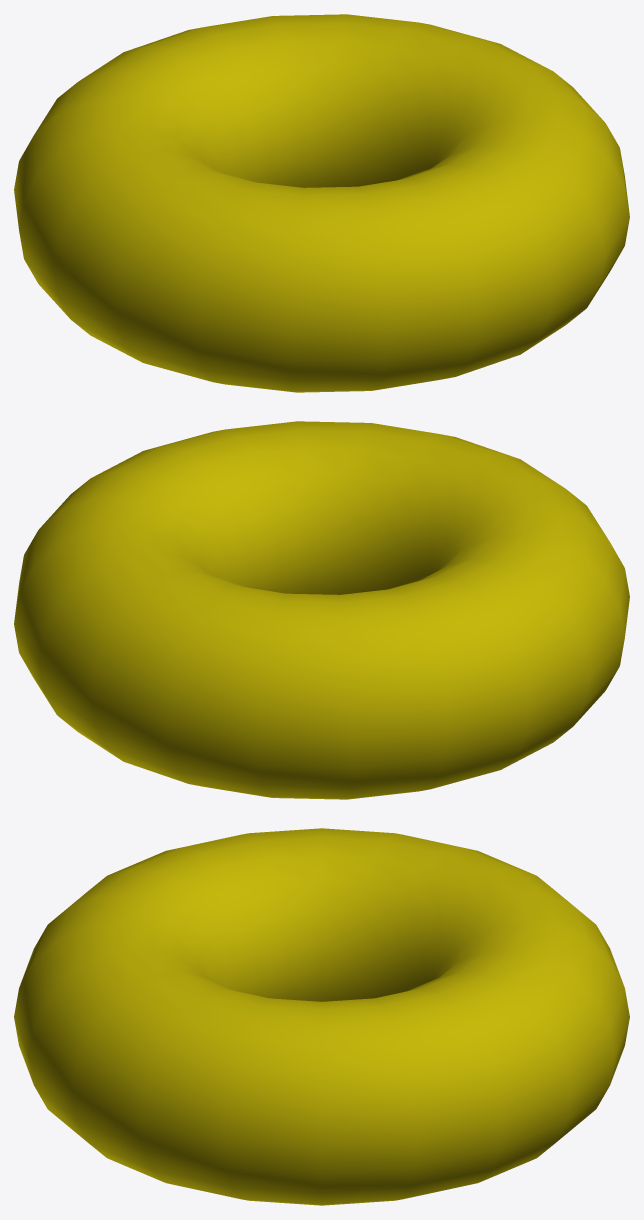
File: Enemy.fbx
3 views of the same model, one above another, from view 1: azimuth 30°, elevation 25°; view 2: azimuth 150°, elevation 25°; view 3: azimuth 270°, elevation 25° (orthographic).
Parts seen in each view (by area): view 1: pTorus1; view 2: pTorus1; view 3: pTorus1.
Part boxes in pixels (x1,y1,x2,y2): pTorus1: (14, 14, 629, 392); pTorus1: (14, 421, 629, 799); pTorus1: (14, 828, 629, 1205).
Bounding box in the file's own units: 3 × 1 × 3.
